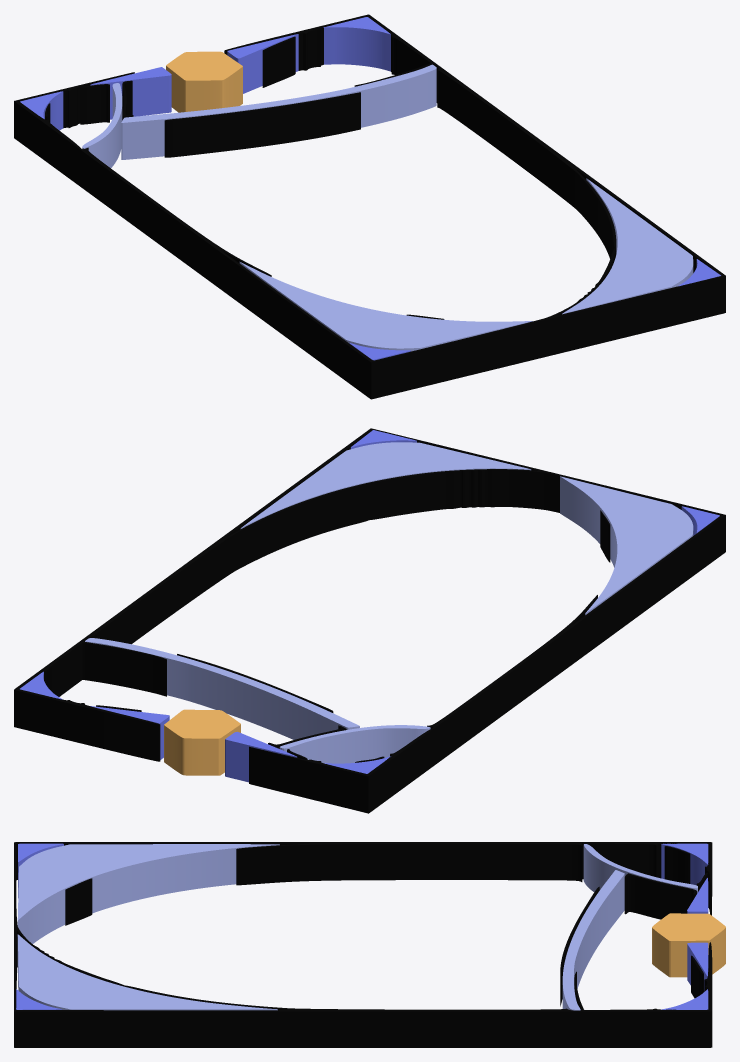
3 views of the same model, one above another, from view 1: azimuth 30°, elevation 25°; view 2: azimuth 150°, elevation 25°; view 3: azimuth 270°, elevation 25° (orthographic). The views are drawn at different scales.
Parts seen in each view (by area): view 1: imagetostl_mesh8, imagetostl_mesh10, imagetostl_mesh1, imagetostl_mesh3, imagetostl_mesh9, imagetostl_mesh4, imagetostl_mesh28, imagetostl_mesh34, imagetostl_mesh5, imagetostl_mesh35, imagetostl_mesh22, imagetostl_mesh14 (+3 smaller); view 2: imagetostl_mesh8, imagetostl_mesh1, imagetostl_mesh3, imagetostl_mesh4, imagetostl_mesh9, imagetostl_mesh6, imagetostl_mesh34, imagetostl_mesh0, imagetostl_mesh5, imagetostl_mesh35, imagetostl_mesh22; view 3: imagetostl_mesh8, imagetostl_mesh0, imagetostl_mesh1, imagetostl_mesh3, imagetostl_mesh9, imagetostl_mesh12, imagetostl_mesh4, imagetostl_mesh34, imagetostl_mesh5, imagetostl_mesh35, imagetostl_mesh16, imagetostl_mesh6 (+11 smaller).
Part boxes in pixels (x1,y1,x2,y2): imagetostl_mesh8: (14, 27, 725, 399); imagetostl_mesh10: (164, 92, 360, 157); imagetostl_mesh1: (240, 262, 531, 348); imagetostl_mesh3: (562, 179, 693, 313); imagetostl_mesh9: (14, 14, 725, 362); imagetostl_mesh4: (121, 68, 436, 159); imagetostl_mesh28: (324, 27, 390, 71); imagetostl_mesh34: (166, 66, 242, 112); imagetostl_mesh5: (121, 64, 436, 122); imagetostl_mesh35: (166, 51, 242, 80); imagetostl_mesh22: (90, 75, 171, 119); imagetostl_mesh14: (262, 37, 295, 87); imagetostl_mesh8: (14, 431, 725, 813); imagetostl_mesh1: (560, 476, 693, 613); imagetostl_mesh3: (241, 442, 530, 527); imagetostl_mesh4: (85, 641, 359, 739); imagetostl_mesh9: (14, 428, 725, 776); imagetostl_mesh6: (279, 727, 430, 763); imagetostl_mesh34: (164, 724, 240, 775); imagetostl_mesh0: (560, 476, 693, 614); imagetostl_mesh5: (85, 638, 359, 727); imagetostl_mesh35: (164, 709, 240, 738); imagetostl_mesh22: (225, 739, 297, 782); imagetostl_mesh8: (14, 843, 712, 1047); imagetostl_mesh0: (17, 844, 279, 943); imagetostl_mesh1: (17, 844, 278, 919); imagetostl_mesh3: (17, 934, 276, 1009); imagetostl_mesh9: (14, 842, 712, 1011); imagetostl_mesh12: (624, 875, 697, 919); imagetostl_mesh4: (562, 874, 624, 1010); imagetostl_mesh34: (652, 928, 725, 977); imagetostl_mesh5: (562, 870, 624, 1009); imagetostl_mesh35: (652, 913, 725, 940); imagetostl_mesh16: (65, 878, 92, 925); imagetostl_mesh6: (583, 845, 697, 892).
Bounding box in the file's own units: 10000 × 1000 × 17765.
